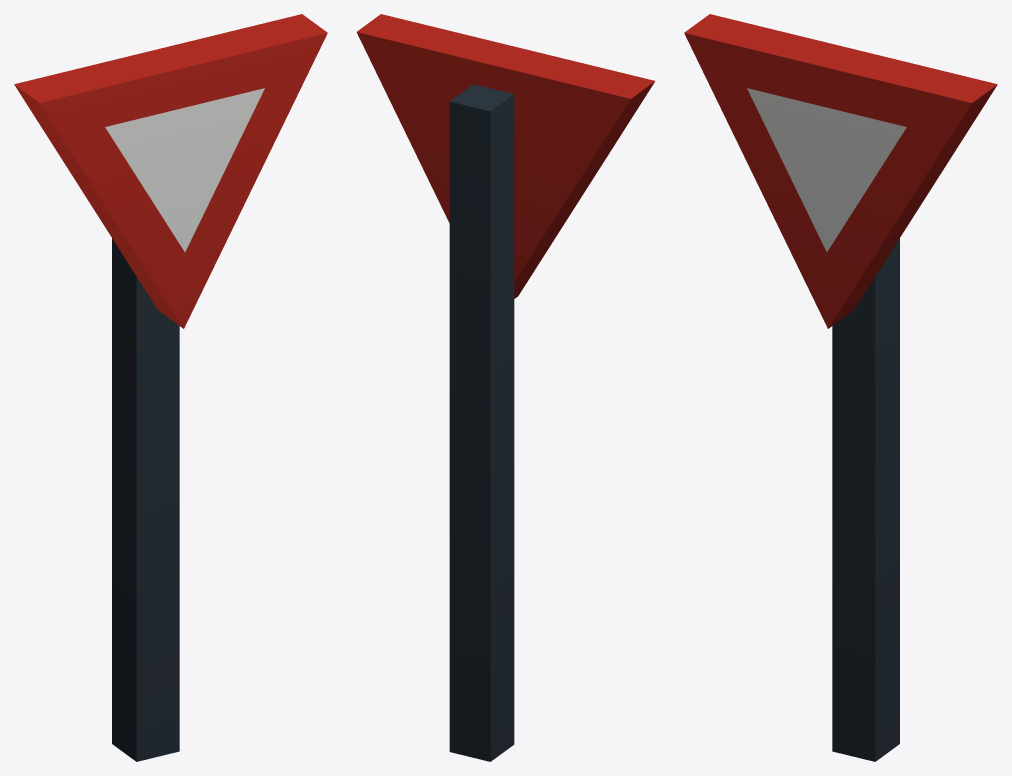
Rendered from Road_sign_1.fbx.
3 renders of one model, left to right at view 1: azimuth 30°, elevation 25°; view 2: azimuth 150°, elevation 25°; view 3: azimuth 330°, elevation 25°, orthographic. The views are drawn at different scales.
Parts seen in each view (by area): view 1: Road_sign_1; view 2: Road_sign_1; view 3: Road_sign_1.
Part boxes in pixels (x1,y1,x2,y2): Road_sign_1: (14, 14, 327, 761); Road_sign_1: (356, 14, 655, 761); Road_sign_1: (684, 14, 997, 761).
Bounding box in the file's own units: 159 × 372 × 49.39.
